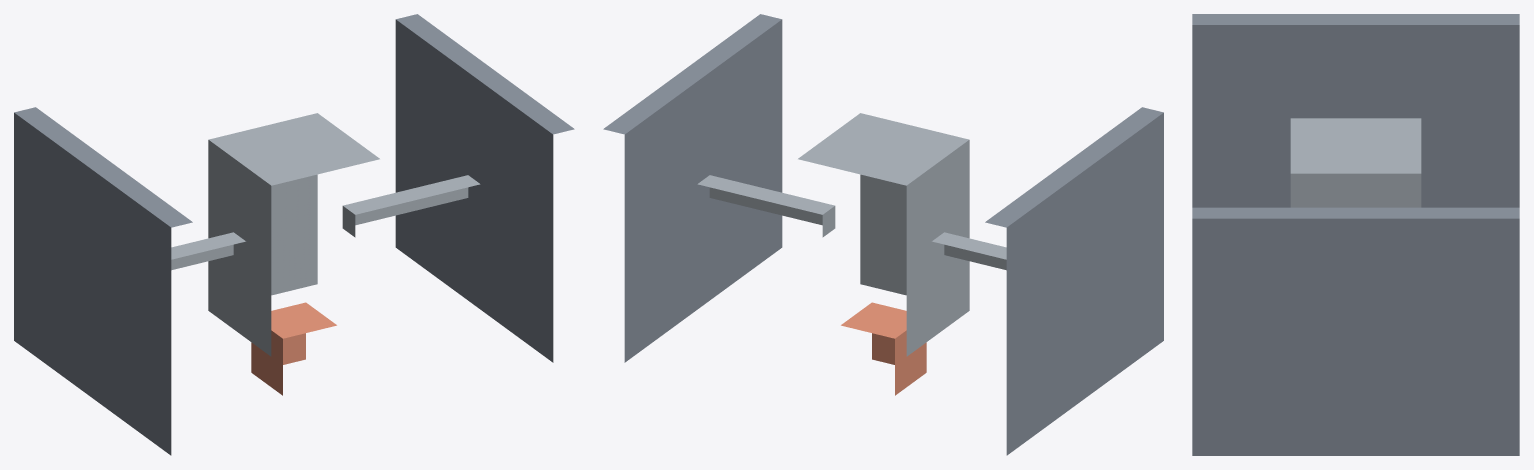
Rendered from Enemy_Ship.glb.
3 renders of one model, left to right at view 1: azimuth 30°, elevation 25°; view 2: azimuth 150°, elevation 25°; view 3: azimuth 270°, elevation 25°, orthographic. The views are drawn at different scales.
Visible parts, largest first — view 1: Enemy_Ship; view 2: Enemy_Ship; view 3: Enemy_Ship.
Boxes of the visible parts, left/top/right/bottom form: Enemy_Ship: left=14, top=14, right=574, bottom=455; Enemy_Ship: left=603, top=14, right=1163, bottom=455; Enemy_Ship: left=1192, top=14, right=1519, bottom=455.
Bounding box in the file's own units: 1.48 × 0.9 × 1.
